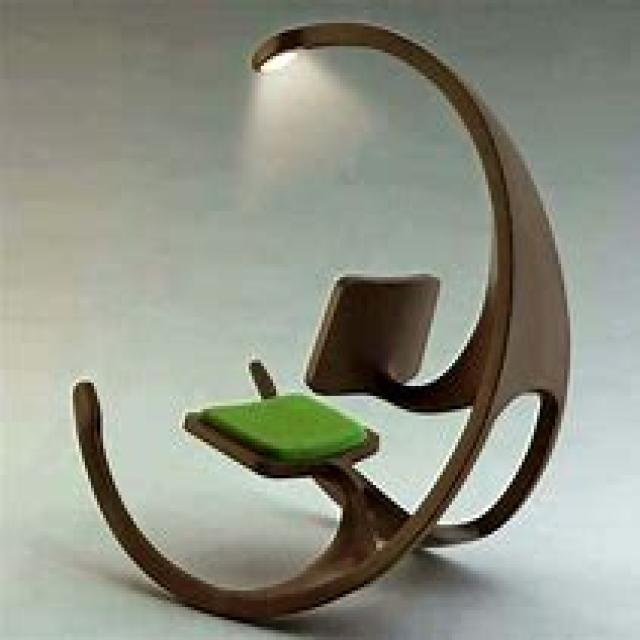chair: (70, 16, 570, 624)
